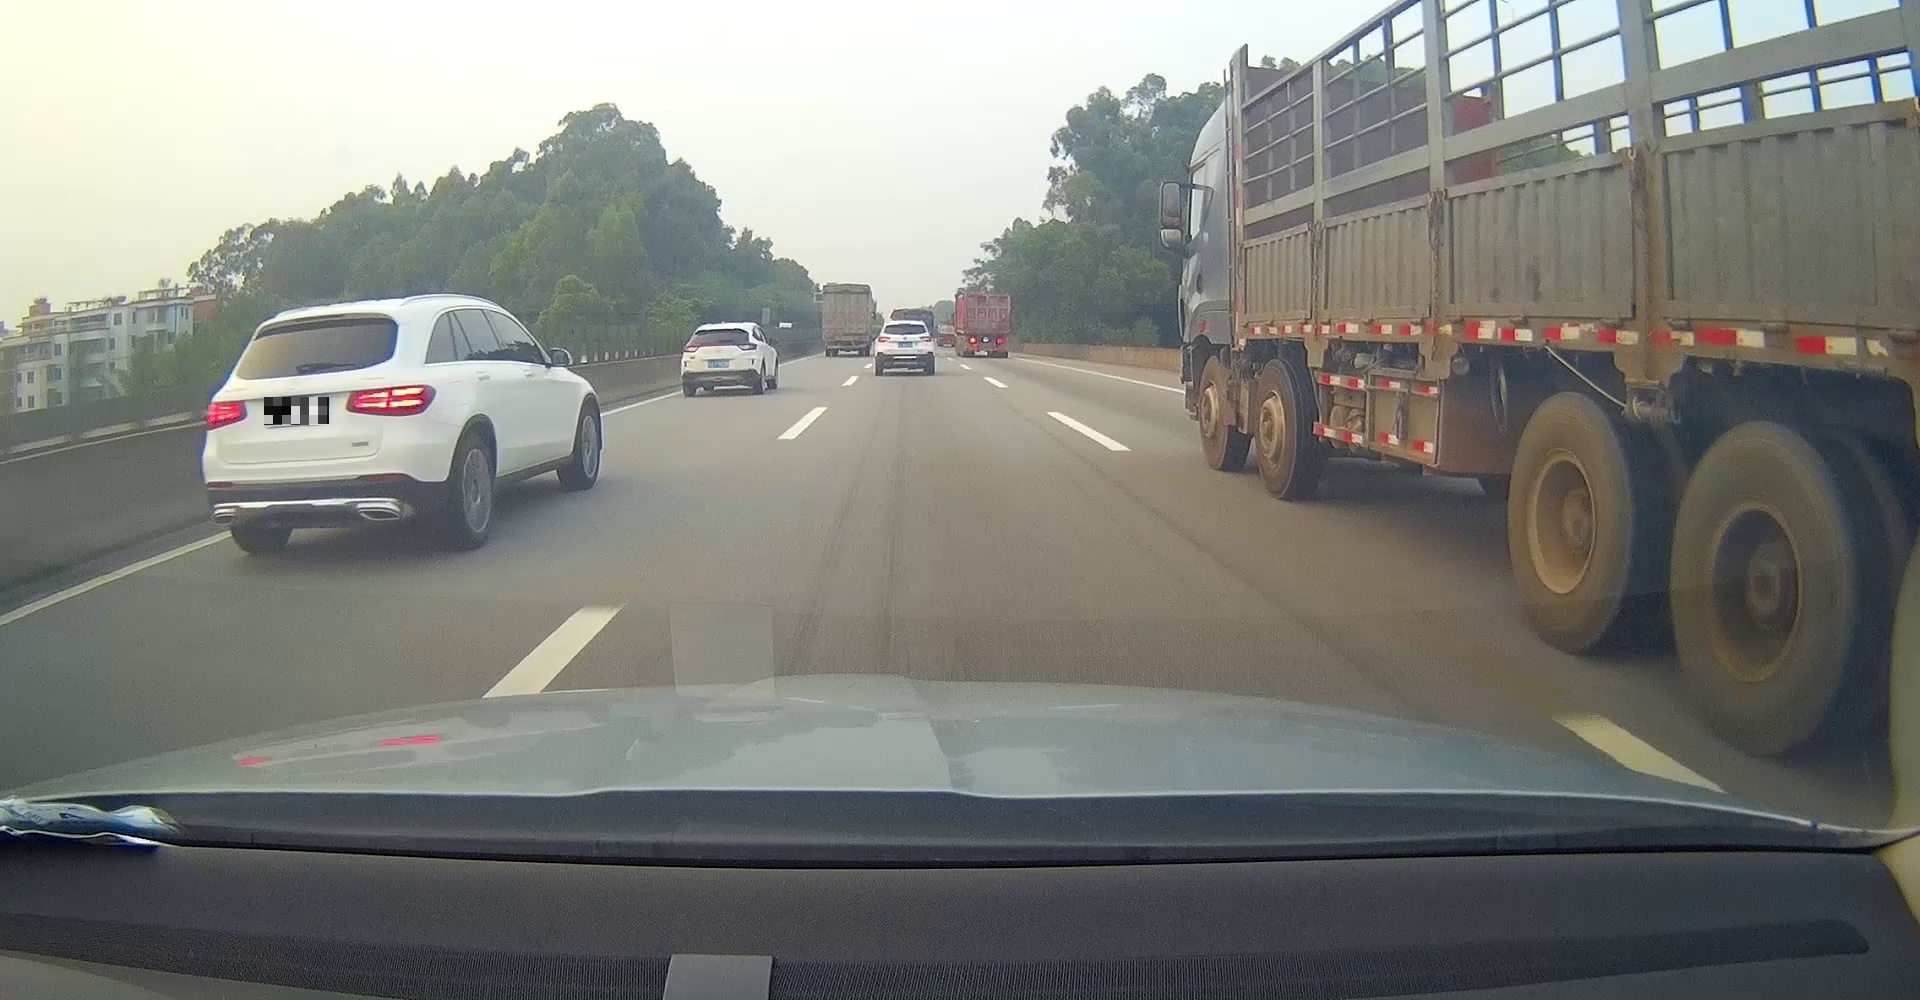L_light: (206, 400, 248, 429), (683, 345, 700, 353), (877, 338, 890, 343), (968, 338, 977, 343), (827, 336, 836, 340)
R_light: (345, 383, 436, 418), (737, 343, 757, 350), (919, 336, 932, 341), (996, 338, 1004, 343), (857, 336, 866, 340)
T_light: (295, 313, 344, 322), (715, 329, 728, 331), (842, 286, 850, 289), (984, 296, 990, 299), (899, 324, 910, 325)
day-brake: (201, 299, 438, 555), (964, 293, 1010, 358)
day-no: (681, 322, 759, 397), (875, 320, 935, 376), (823, 284, 869, 357)
plate_1: (264, 397, 329, 425)
